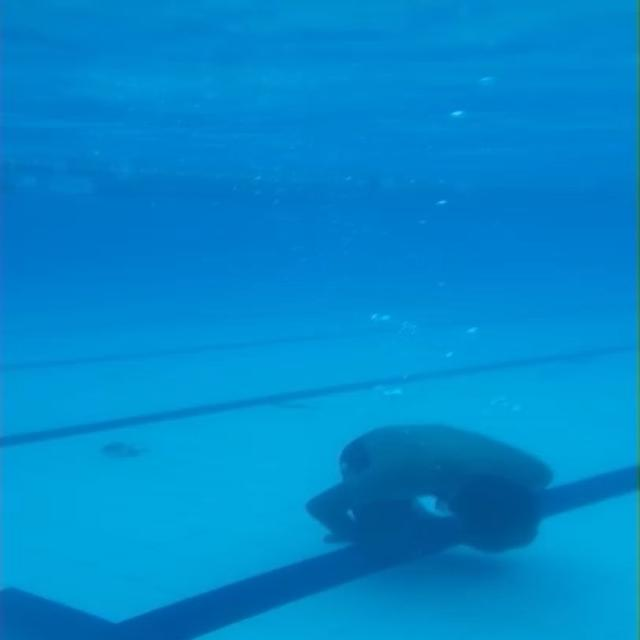Drowning: (307, 423, 555, 558)
